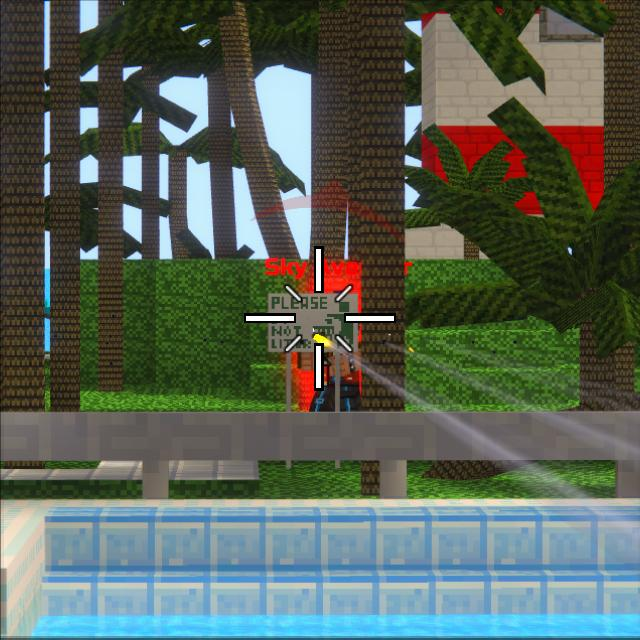Enemy: (299, 295, 363, 413)
